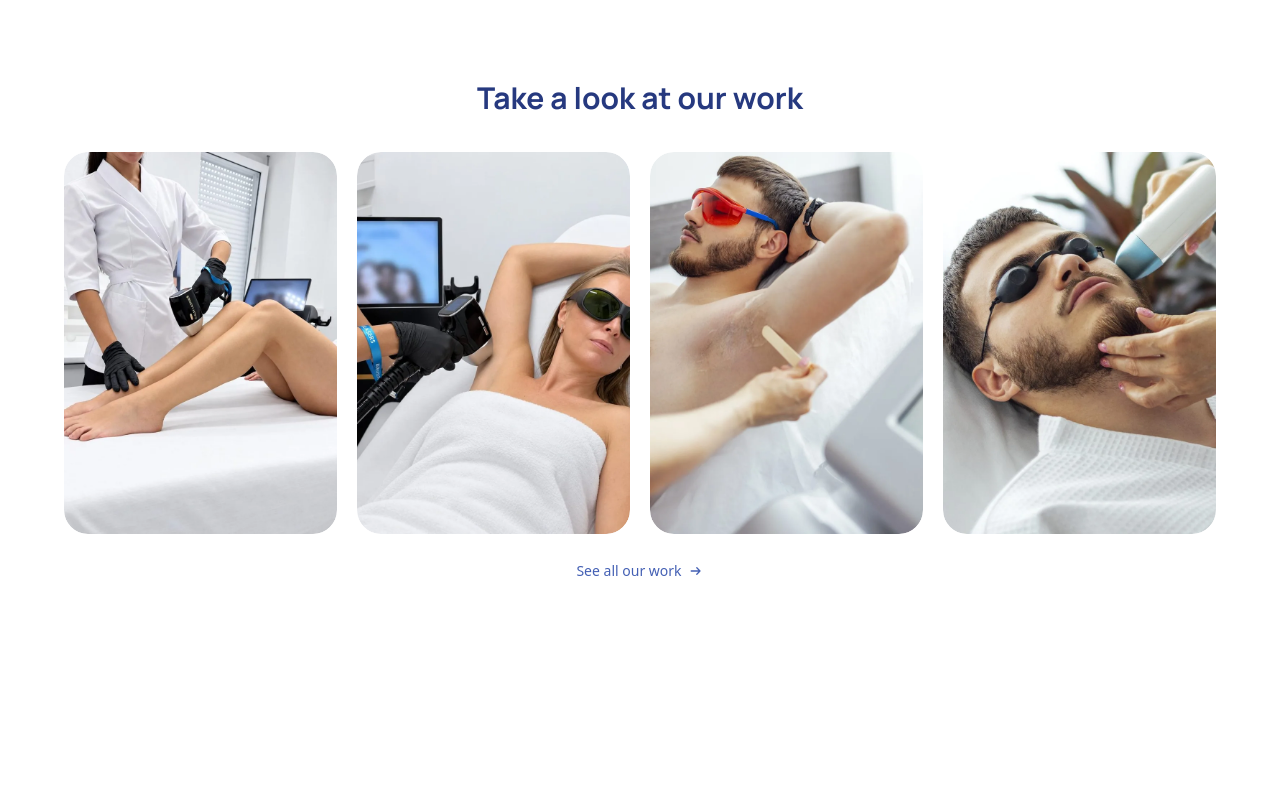
Test: Works gallery lightbox › opens the clicked photo full screen
Click the button named "Open image: Close-up of the handpiece during an underarm tre": click(494, 343) [357,152,630,534]
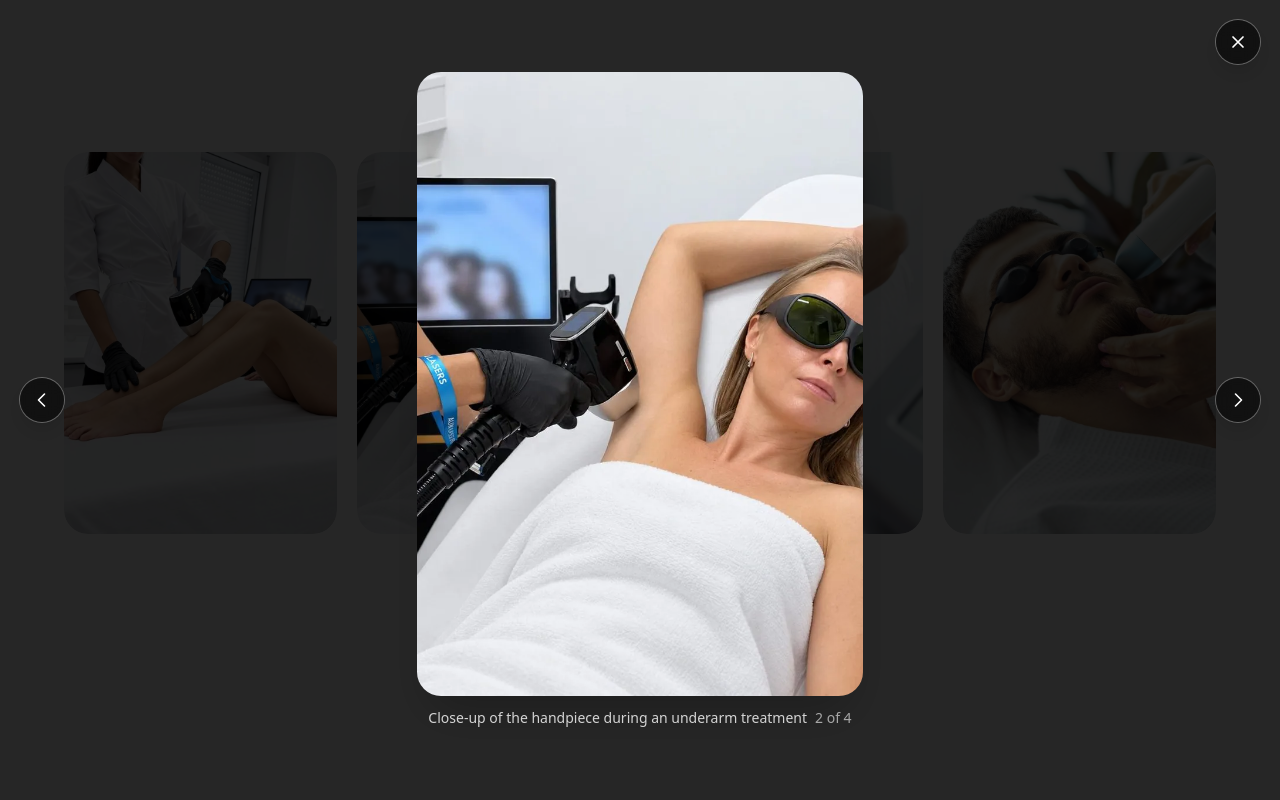
Check: the text "2 of 4" is shown, box [815,708,852,727]
